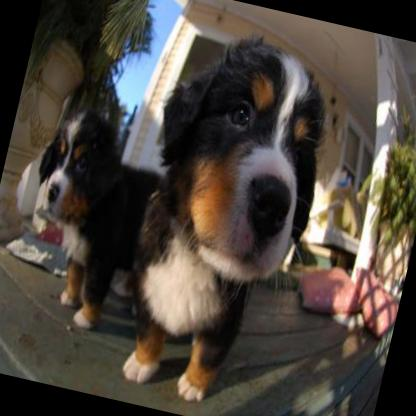Bernese_mountain_dog: (99, 18, 349, 416), (6, 101, 175, 338)
